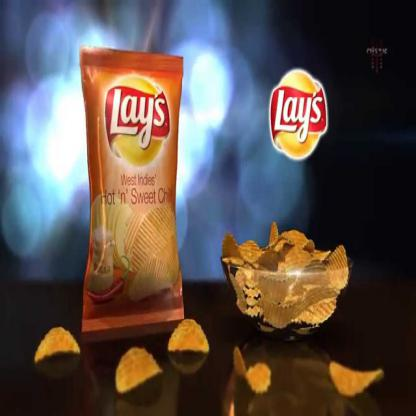potatochip: (77, 43, 188, 338)
